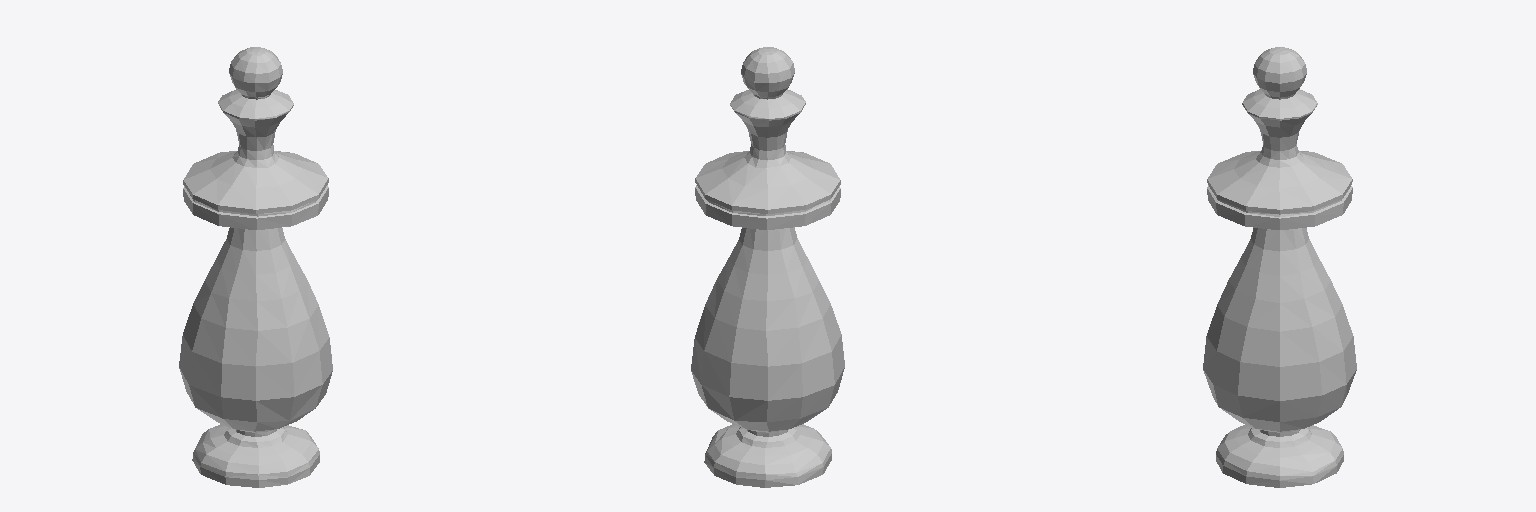
The model's file is pionek.obj.
3 renders of one model, left to right at view 1: azimuth 30°, elevation 25°; view 2: azimuth 150°, elevation 25°; view 3: azimuth 270°, elevation 25°, orthographic.
Parts seen in each view (by area): view 1: pionek.low.poly_Icosphere.002; view 2: pionek.low.poly_Icosphere.002; view 3: pionek.low.poly_Icosphere.002.
Part boxes in pixels (x1,y1,x2,y2): pionek.low.poly_Icosphere.002: (179, 47, 332, 487); pionek.low.poly_Icosphere.002: (691, 47, 844, 487); pionek.low.poly_Icosphere.002: (1203, 47, 1356, 487).
Bounding box in the file's own units: 1.22 × 3.58 × 1.22.